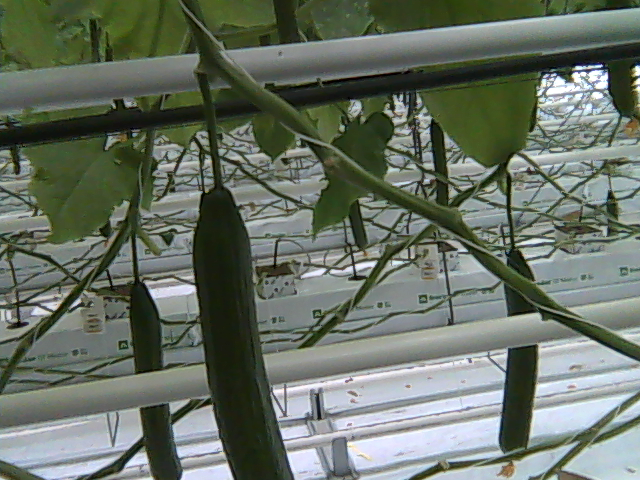concombre: (188, 177, 300, 480)
